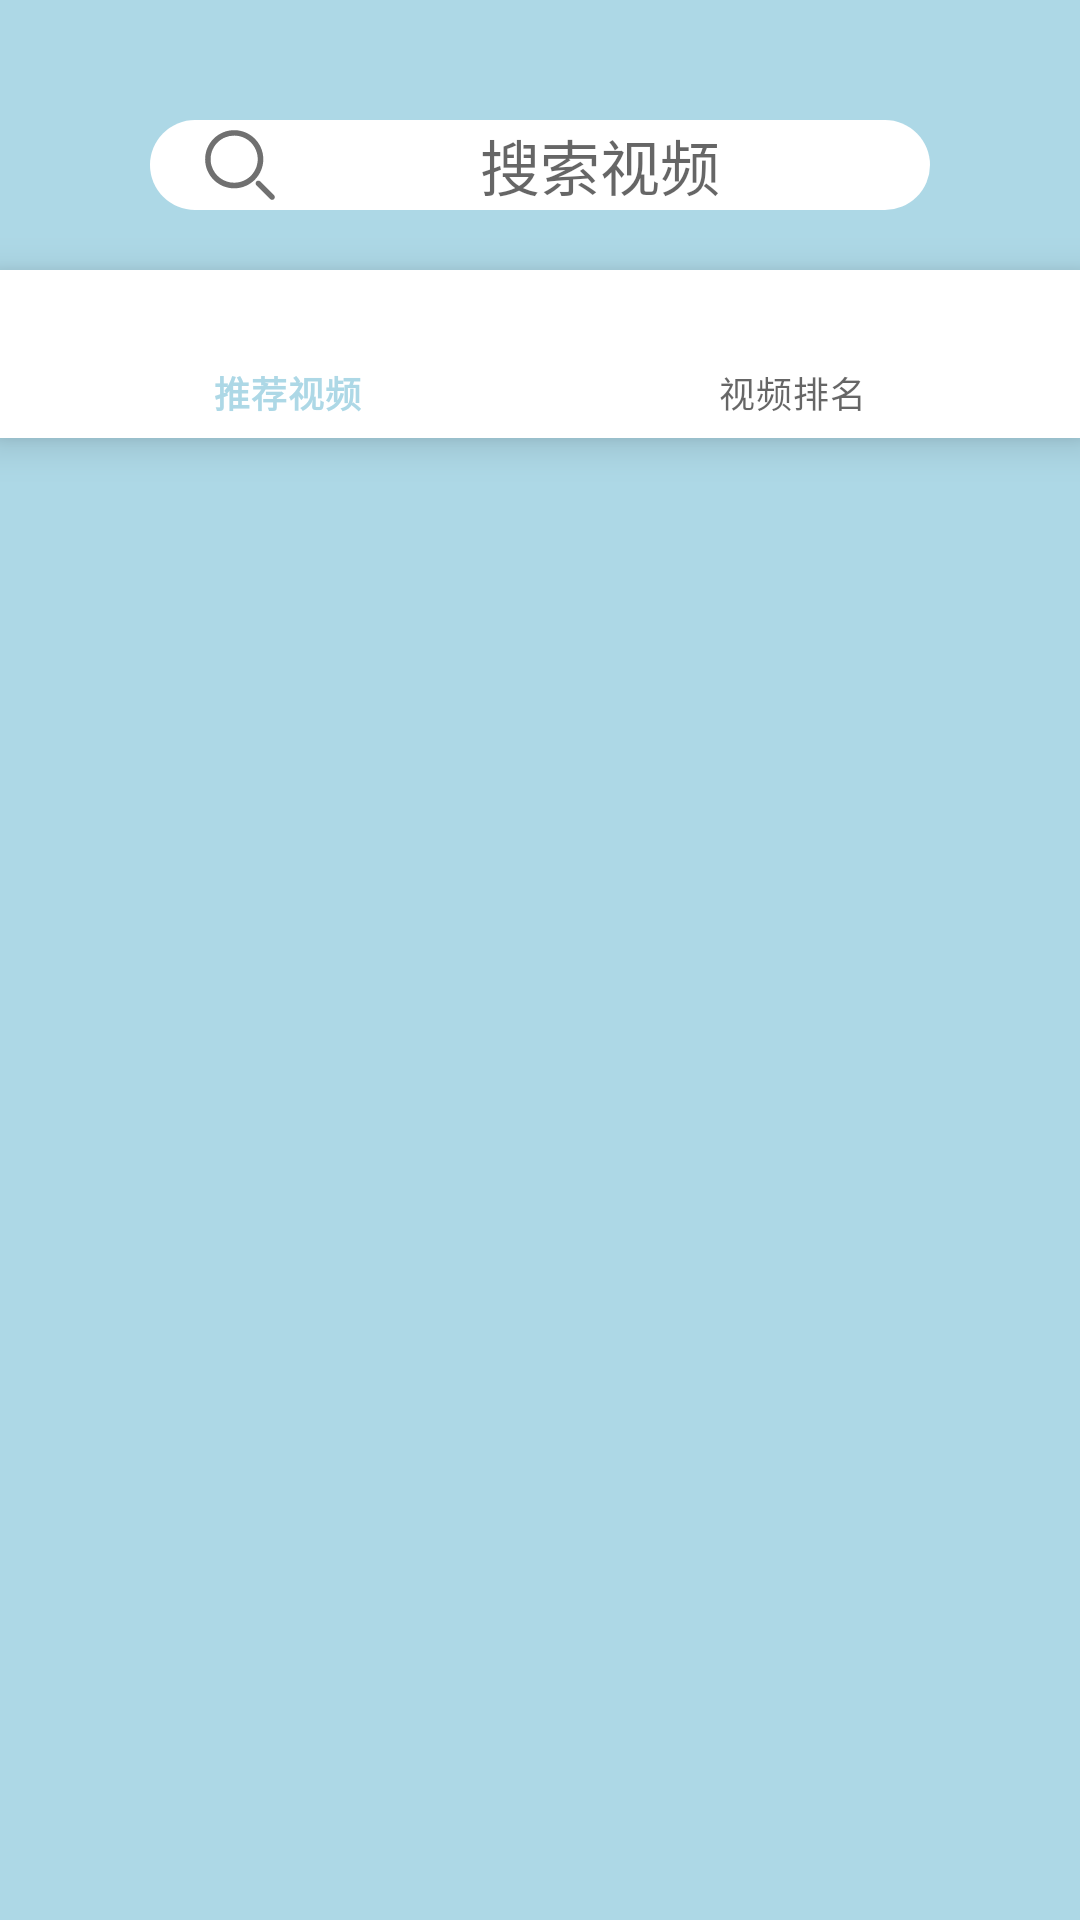

Where to tap for icons on this 1080x1920 app screen, as point (x, y):
search: point (240, 165)
